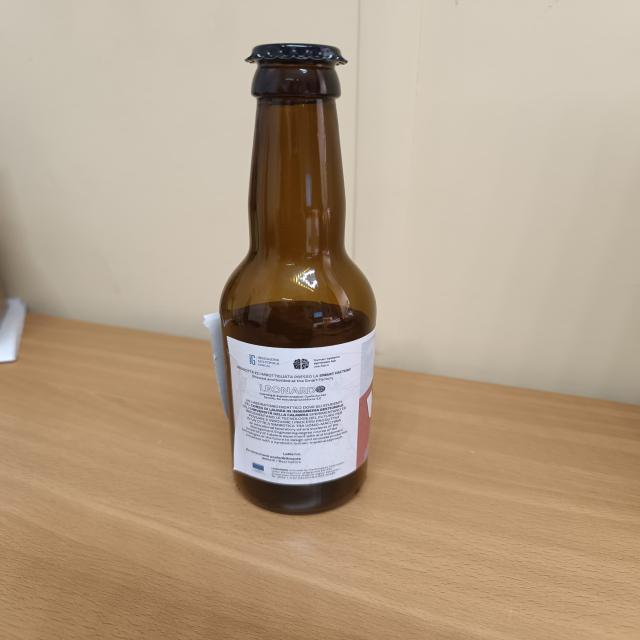Bottle: (218, 41, 372, 514)
Cap: (235, 41, 358, 71)
Label: (224, 329, 373, 486)
